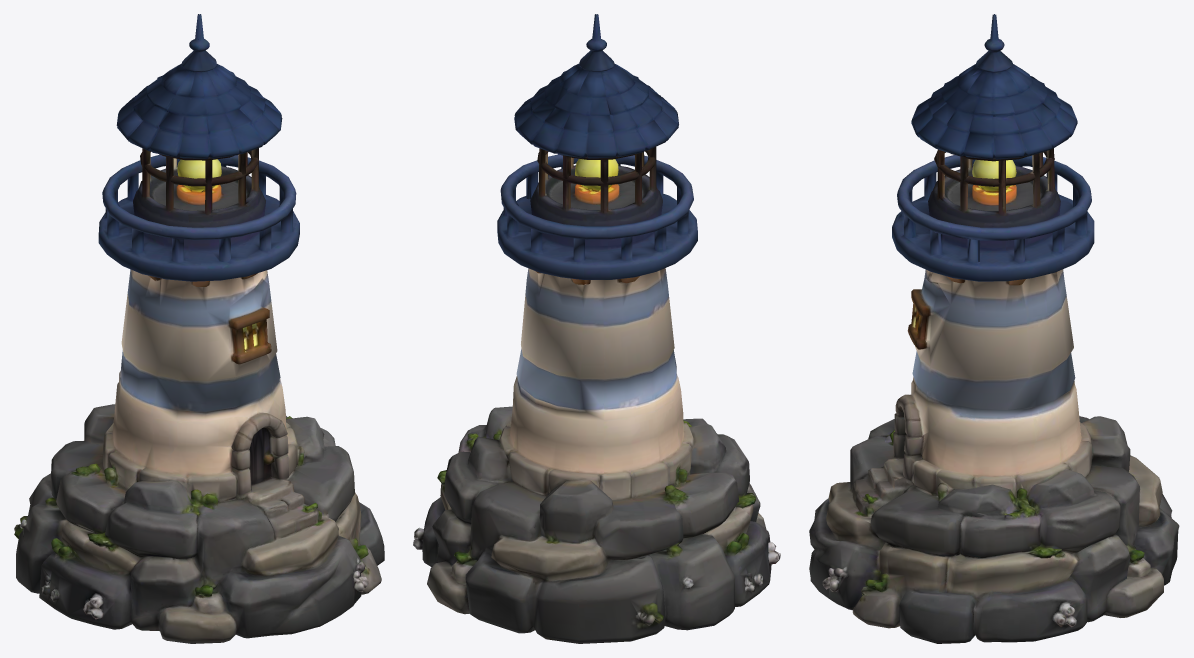
The model's file is lighthouse.glb.
3 views of the same model, side by side, from view 1: azimuth 30°, elevation 25°; view 2: azimuth 150°, elevation 25°; view 3: azimuth 270°, elevation 25° (orthographic).
Visible parts, largest first — view 1: tripo_node_5135f740-dc7d-48f1-93f5-fb1aaa7a873d; view 2: tripo_node_5135f740-dc7d-48f1-93f5-fb1aaa7a873d; view 3: tripo_node_5135f740-dc7d-48f1-93f5-fb1aaa7a873d.
Part boxes in pixels (x1,y1,x2,y2): tripo_node_5135f740-dc7d-48f1-93f5-fb1aaa7a873d: (14, 14, 384, 643); tripo_node_5135f740-dc7d-48f1-93f5-fb1aaa7a873d: (413, 14, 780, 643); tripo_node_5135f740-dc7d-48f1-93f5-fb1aaa7a873d: (809, 14, 1179, 643).
Size of the model in its own units: 0.5818 by 0.9811 by 0.5933.
Materials: 1 (1 with a texture image).
